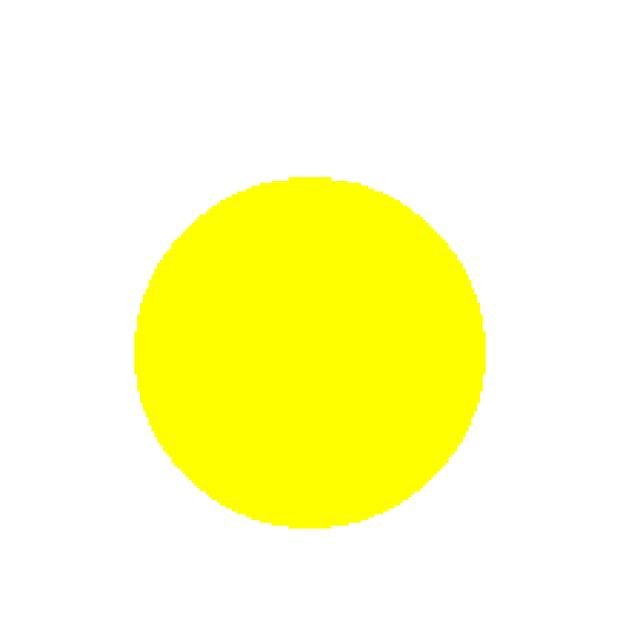Circle: (90, 147, 513, 532)
